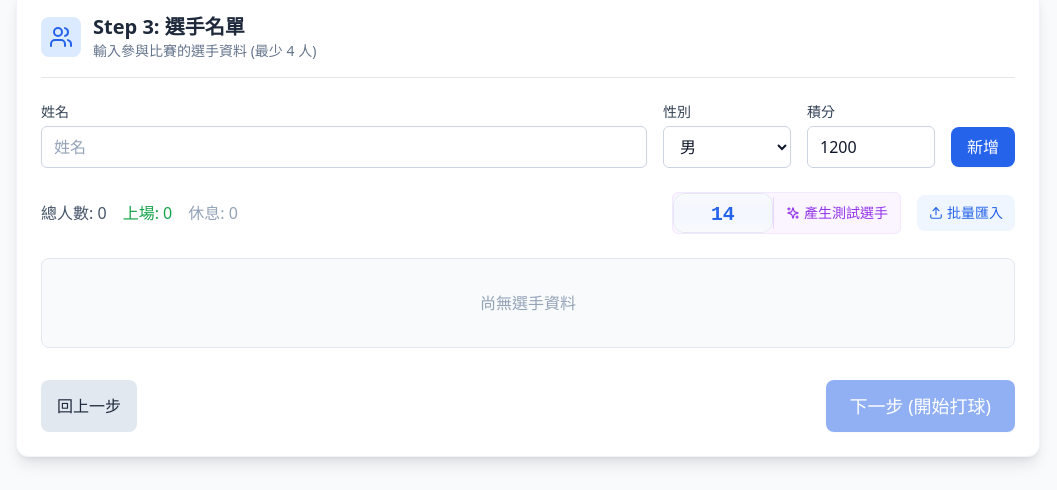
Test: PlayerListScreen › moves a player to resting and excludes them from the active count
The width and height of the screenshot is (1057, 490).
(page scrolled)
Type "Alice" into the field with placeholder "姓名" at (344, 147), box [41,126,647,168]
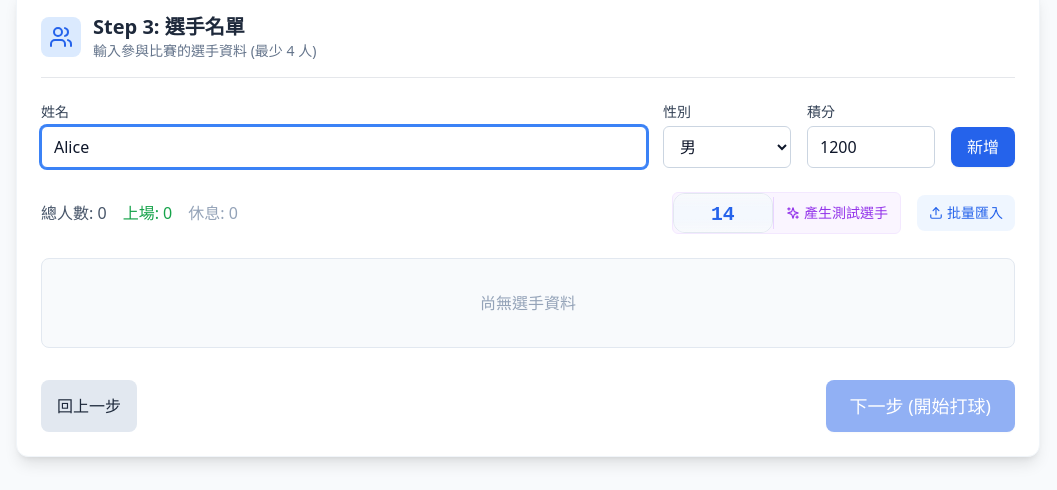
Click the button "新增" at (983, 147), box [951,127,1015,167]
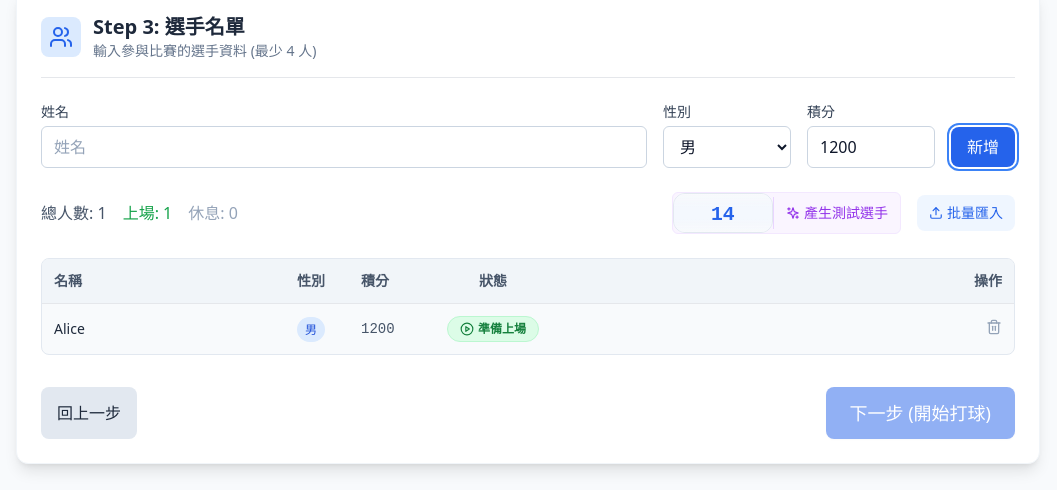
Click the button "準備上場" at (493, 329), box [447,316,539,342]
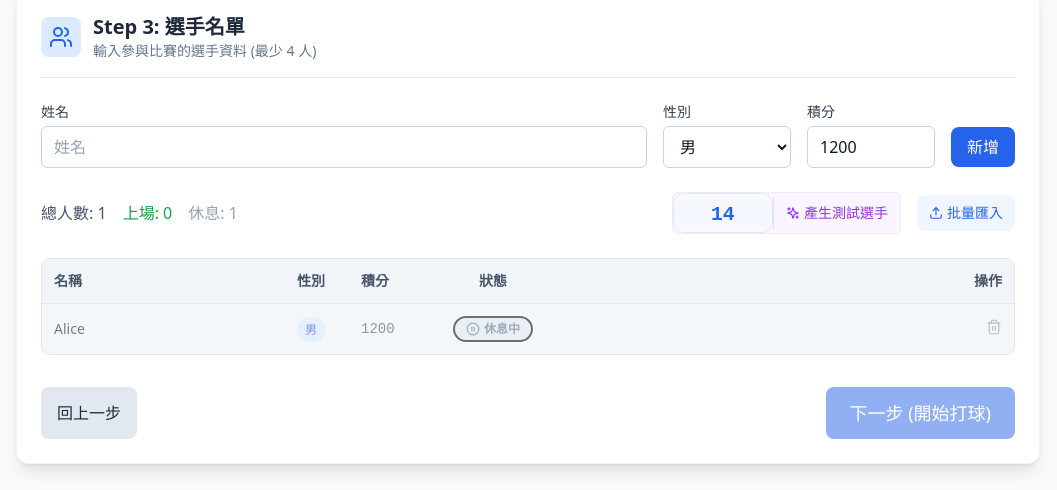
Expected: the button "休息中" is shown, [453,316,533,342]
Expected: the text "上場: 0" is shown, [123,201,172,225]
